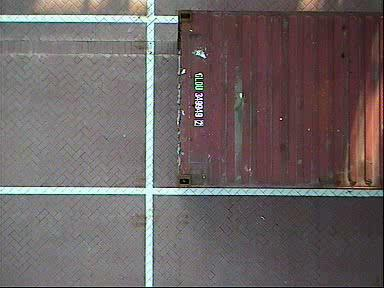groundmarker_2: (142, 75, 242, 134)
